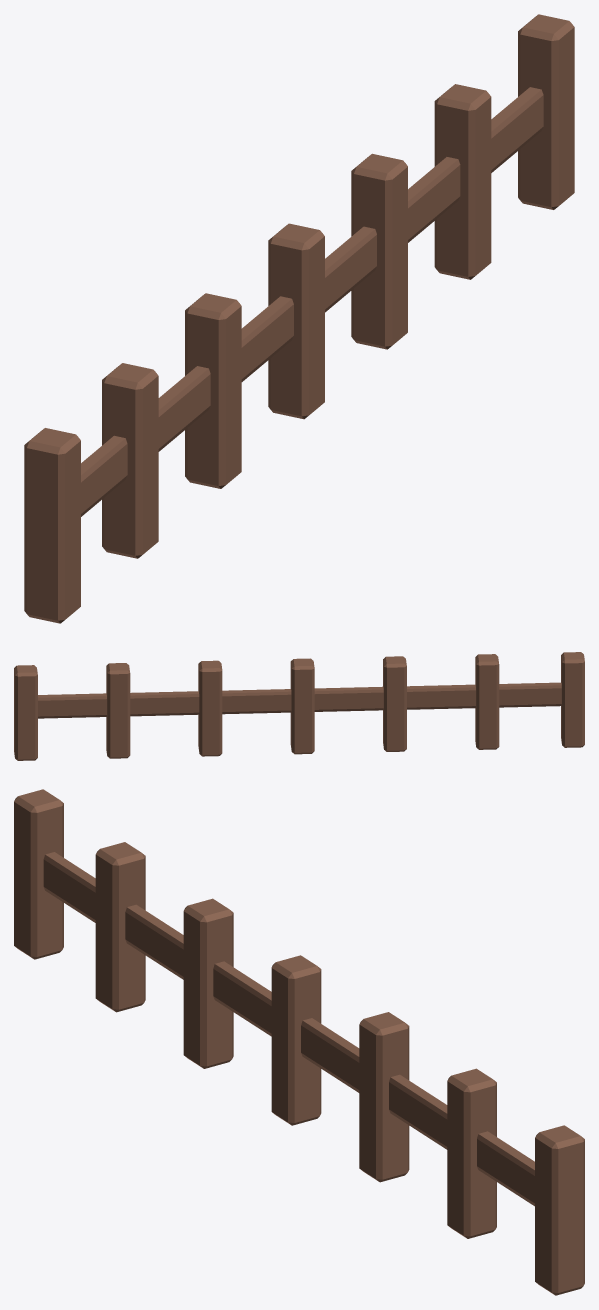
File: Fence_6.glb
3 views of the same model, one above another, from view 1: azimuth 30°, elevation 25°; view 2: azimuth 150°, elevation 25°; view 3: azimuth 270°, elevation 25° (orthographic). The views are drawn at different scales.
Visible parts, largest first — view 1: Fence_6; view 2: Fence_6; view 3: Fence_6.
Part boxes in pixels (x1,y1,x2,y2): Fence_6: [24, 14, 574, 623]; Fence_6: [14, 652, 584, 760]; Fence_6: [14, 789, 584, 1295].
Size of the model in its own units: 10.02 by 2 by 6.77.
